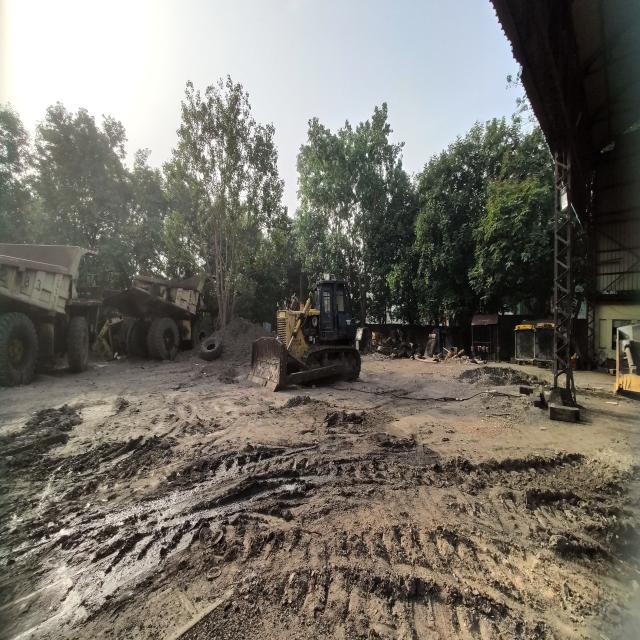buldozerpayloadergrader: (250, 275, 361, 389)
dump_truck: (0, 244, 99, 387), (101, 275, 210, 360)
